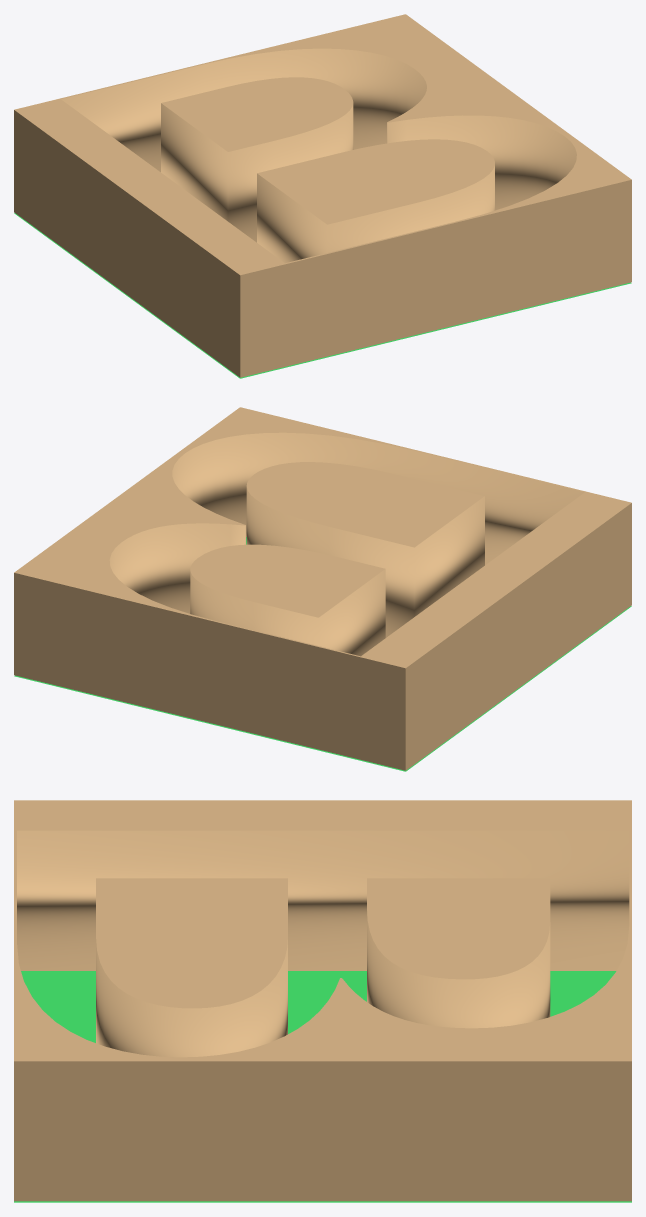
File: B_mold.gltf
3 views of the same model, one above another, from view 1: azimuth 30°, elevation 25°; view 2: azimuth 150°, elevation 25°; view 3: azimuth 270°, elevation 25° (orthographic). The views are drawn at different scales.
Visible parts, largest first — view 1: Cube, Base; view 2: Cube, Base; view 3: Cube, Base.
Boxes of the visible parts, x1,y1,x2,y2 form: Cube: (14, 14, 631, 377); Base: (14, 213, 631, 378); Cube: (14, 407, 631, 770); Base: (14, 537, 631, 771); Cube: (14, 800, 631, 1201); Base: (14, 971, 631, 1202).
Size of the model in its own units: 0.2 by 0.0505 by 0.2.
